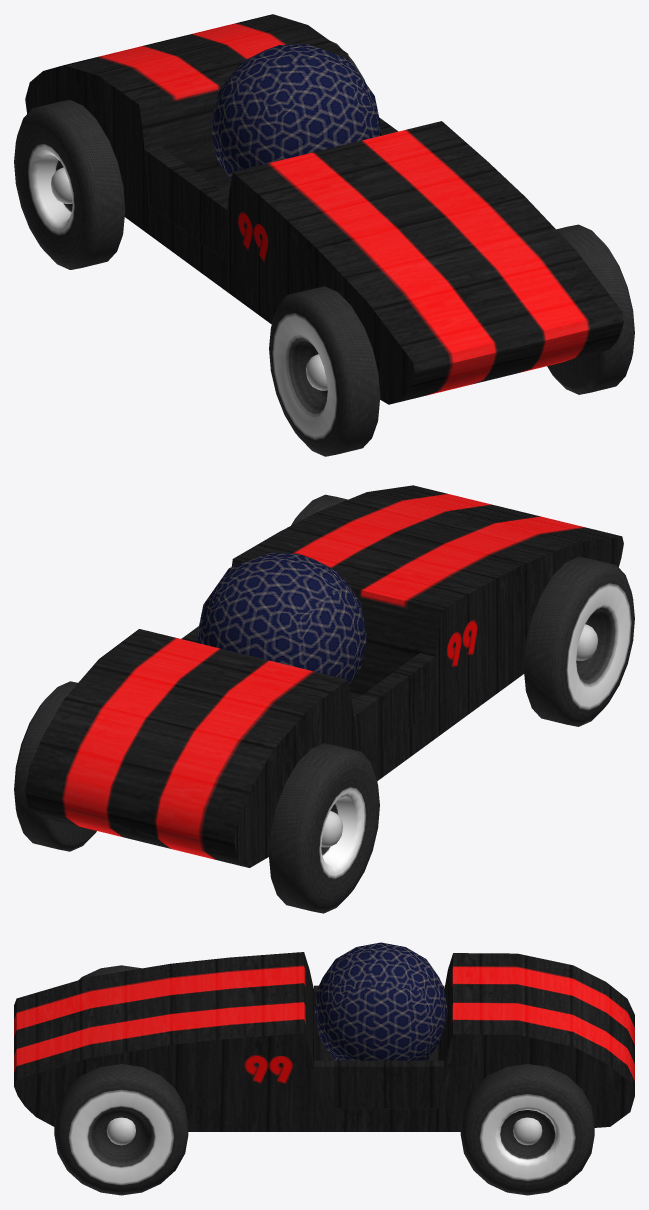
The model's file is SK_Car.fbx.
3 renders of one model, top to bottom at view 1: azimuth 30°, elevation 25°; view 2: azimuth 150°, elevation 25°; view 3: azimuth 270°, elevation 25°, orthographic. The views are drawn at different scales.
Parts seen in each view (by area): view 1: carBody, ball, wheelA, wheelB, wheelC, doorA; view 2: carBody, ball, wheelA, wheelB, doorA, wheelD; view 3: carBody, wheelD, wheelC, ball, doorB, pegC, pegD.
Boxes of the visible parts, x1,y1,x2,y2 form: carBody: [25, 14, 623, 404]; ball: [211, 44, 380, 179]; wheelA: [269, 286, 380, 456]; wheelB: [14, 100, 125, 269]; wheelC: [547, 224, 634, 394]; doorA: [144, 146, 228, 259]; carBody: [25, 485, 623, 867]; ball: [197, 552, 366, 684]; wheelA: [523, 556, 634, 726]; wheelB: [268, 743, 379, 913]; doorA: [352, 653, 435, 758]; wheelD: [14, 681, 96, 851]; carBody: [14, 952, 634, 1131]; wheelD: [460, 1064, 594, 1195]; wheelC: [54, 1064, 188, 1195]; ball: [314, 942, 447, 1060]; doorB: [314, 1060, 444, 1108]; pegC: [106, 1117, 135, 1145]; pegD: [513, 1117, 542, 1145].
Bounding box in the file's own units: 8.08 × 6.39 × 18.52.
